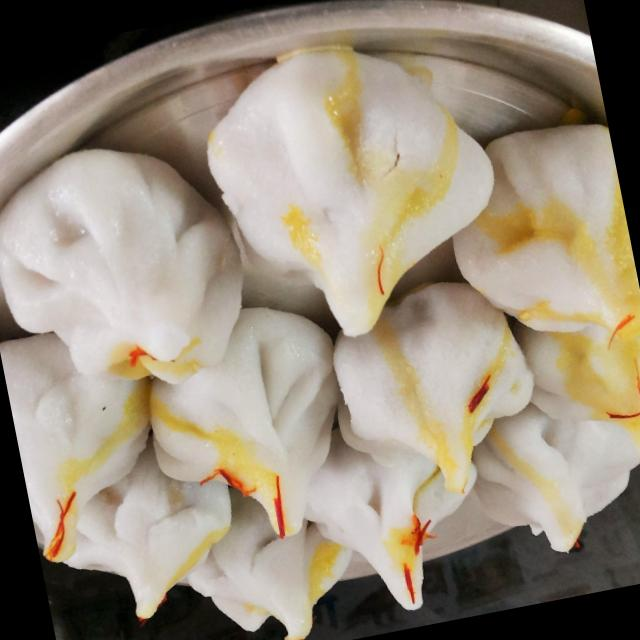modak: (200, 8, 524, 358), (0, 113, 261, 404), (312, 266, 553, 510), (437, 109, 640, 352), (2, 331, 180, 552), (300, 438, 502, 626), (64, 441, 234, 621), (469, 400, 640, 566), (178, 500, 370, 640), (525, 316, 640, 475)
